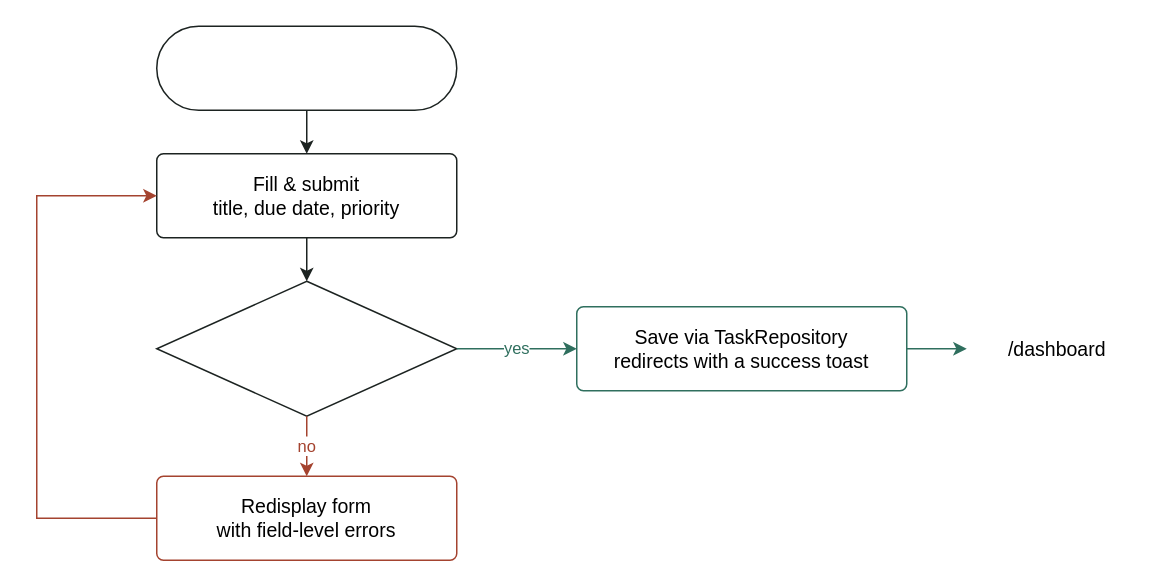
The diagram is 1173 pixels wide and 587 high, and some of its shapes have lost their labels. Here are the shapes that lost their labels. From the top down, the box of each, then its label:
(155, 25, 457, 110): Click "New Task" from the dashboard
(155, 280, 457, 416): Fields valid?
